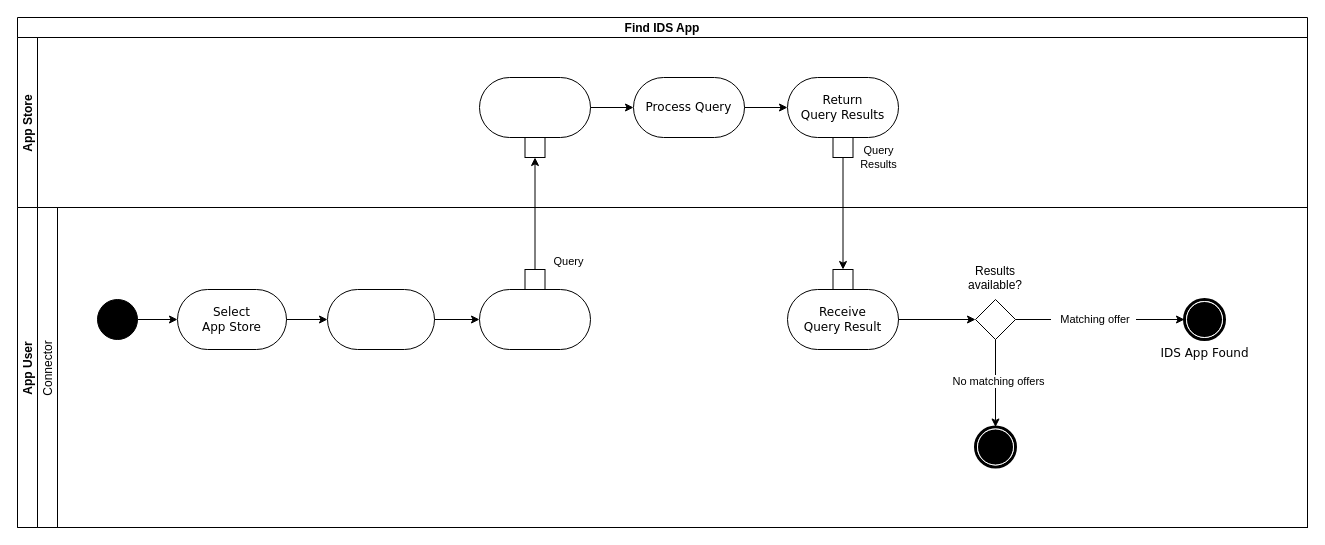
Image size: 1325x545. Some labels were removed from this diagram. The centre of each missing label's shape, as x and y in pixels:
Determine App Store Query Capabilities: [380,319]
No IDS App Found: [995,446]
Receive Query: [534,107]
Send Query to App Store: [534,319]
